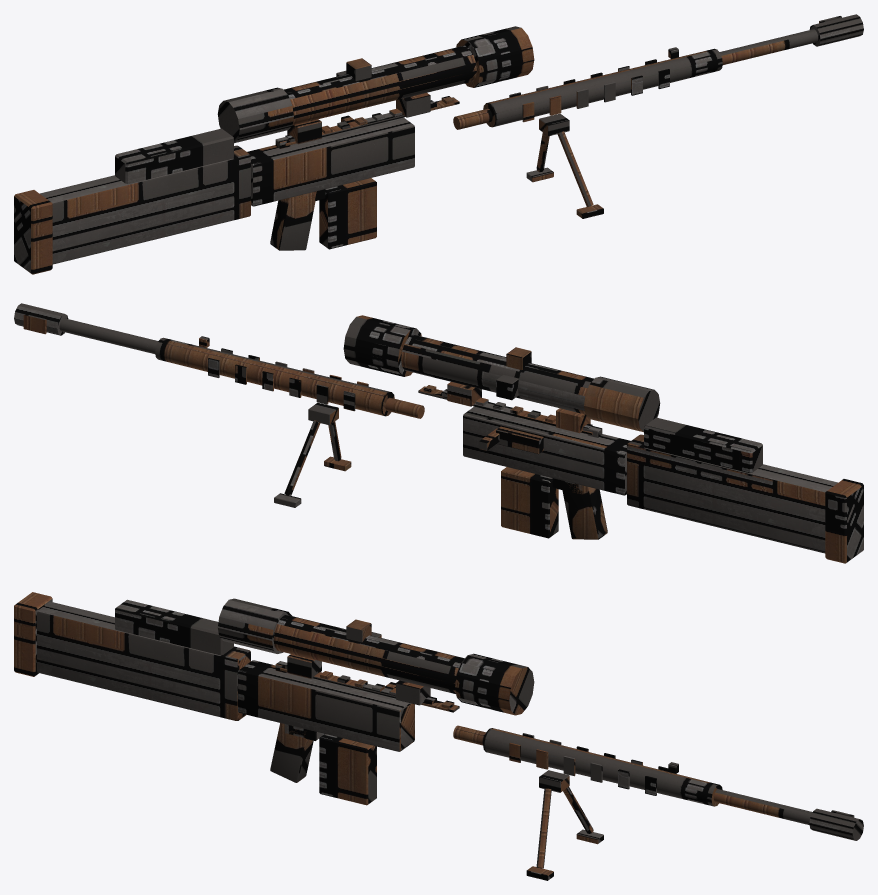
Rendered from weapon_sniper.glb.
3 renders of one model, top to bottom at view 1: azimuth 30°, elevation 25°; view 2: azimuth 150°, elevation 25°; view 3: azimuth 330°, elevation 25°, orthographic.
Visible parts, largest first — view 1: DefaultStock, Body, DefaultOptic, DefaultMag, DefaultGrip, DefaultBarrel, DefaultMuzzle; view 2: DefaultStock, Body, DefaultOptic, DefaultMag, DefaultGrip, DefaultBarrel, DefaultMuzzle; view 3: DefaultStock, Body, DefaultOptic, DefaultMag, DefaultGrip, DefaultBarrel, DefaultMuzzle.
Part boxes in pixels (x1,y1,x2,y2): DefaultStock: (14, 128, 250, 274); Body: (247, 48, 722, 250); DefaultOptic: (217, 26, 534, 144); DefaultMag: (319, 178, 376, 249); DefaultGrip: (526, 113, 603, 218); DefaultBarrel: (453, 29, 818, 129); DefaultMuzzle: (809, 14, 863, 46); DefaultStock: (627, 417, 863, 563); Body: (155, 337, 630, 539); DefaultOptic: (343, 315, 660, 433); DefaultMag: (501, 467, 558, 538); DefaultGrip: (274, 402, 351, 507); DefaultBarrel: (59, 318, 424, 418); DefaultMuzzle: (14, 303, 68, 335); DefaultStock: (14, 592, 250, 720); Body: (238, 660, 722, 806); DefaultOptic: (217, 598, 534, 715); DefaultMag: (319, 734, 376, 805); DefaultGrip: (526, 770, 603, 880); DefaultBarrel: (453, 725, 812, 824); DefaultMuzzle: (809, 808, 863, 840).
Bounding box in the file's own units: 1.54 × 0.3225 × 0.18.
1 material, 1 textured.
